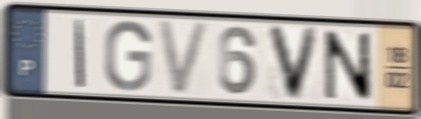6: (216, 24, 260, 98)
G: (101, 19, 154, 94)
I: (73, 17, 87, 91)
N: (322, 28, 375, 104)
V: (264, 22, 323, 104), (155, 17, 213, 98)
